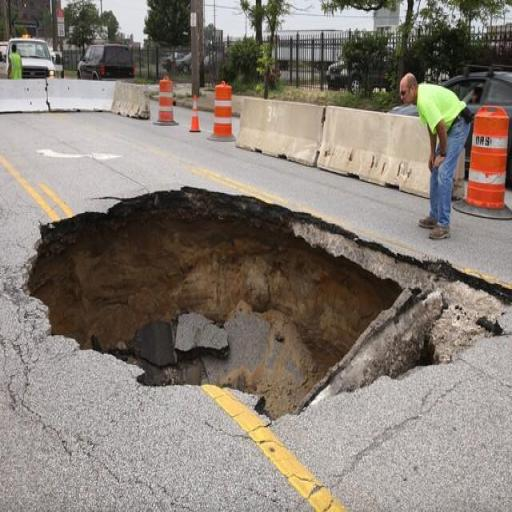Concentric_Crack: (28, 188, 512, 418)
